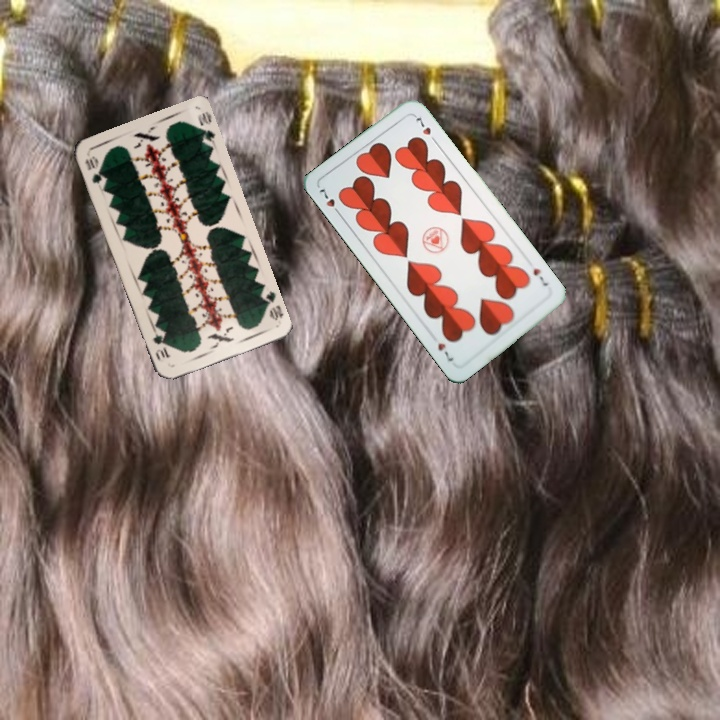G10: (256, 287, 286, 323), (81, 152, 105, 186)
H7: (315, 185, 344, 219), (529, 264, 551, 289)
